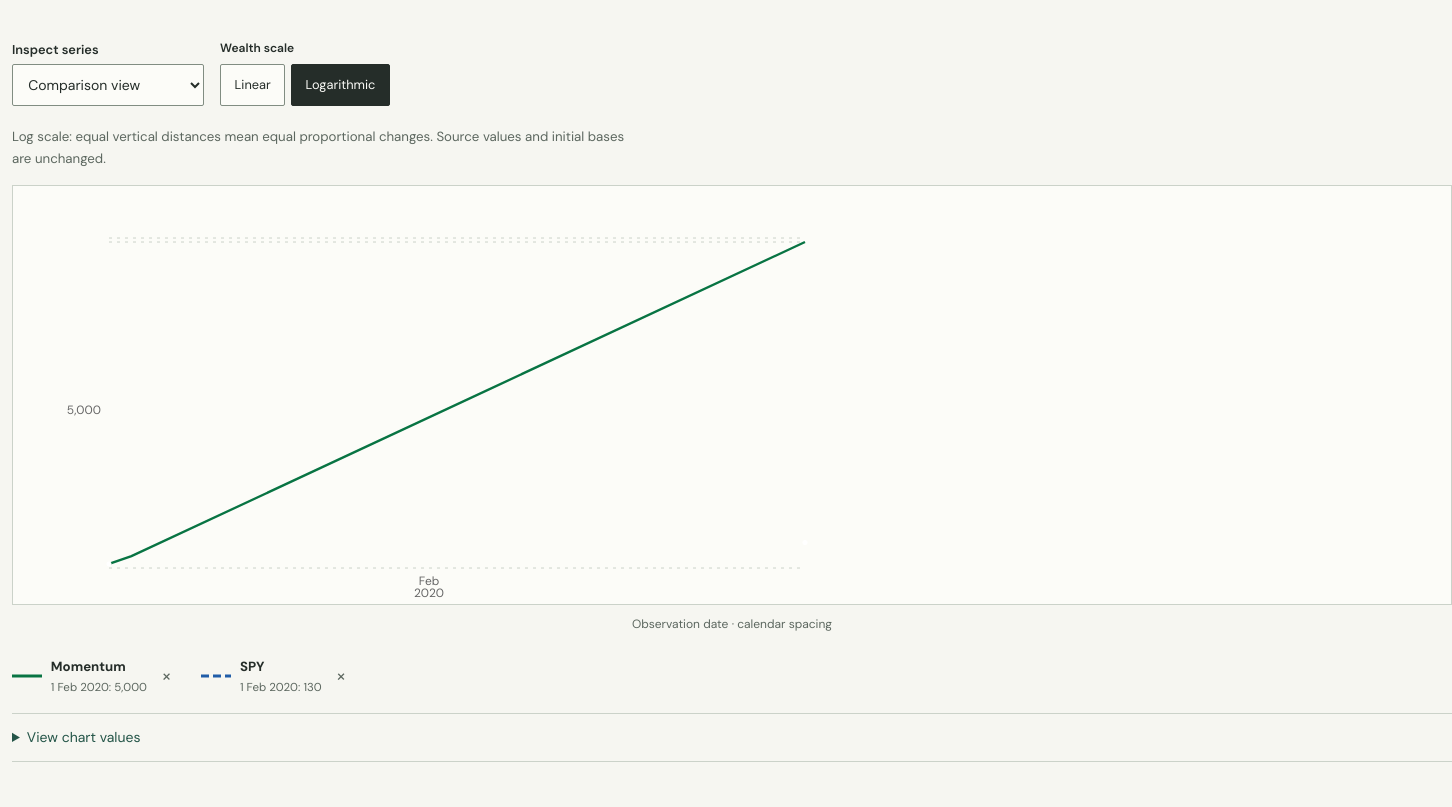
Test: presentation identity and source integrity › switches log and linear display without changing any inspected source row
The image size is (1452, 807).
(page scrolled)
Click the heading "View chart values" at [84, 737], box x1=27 y1=728 x2=140 y2=746
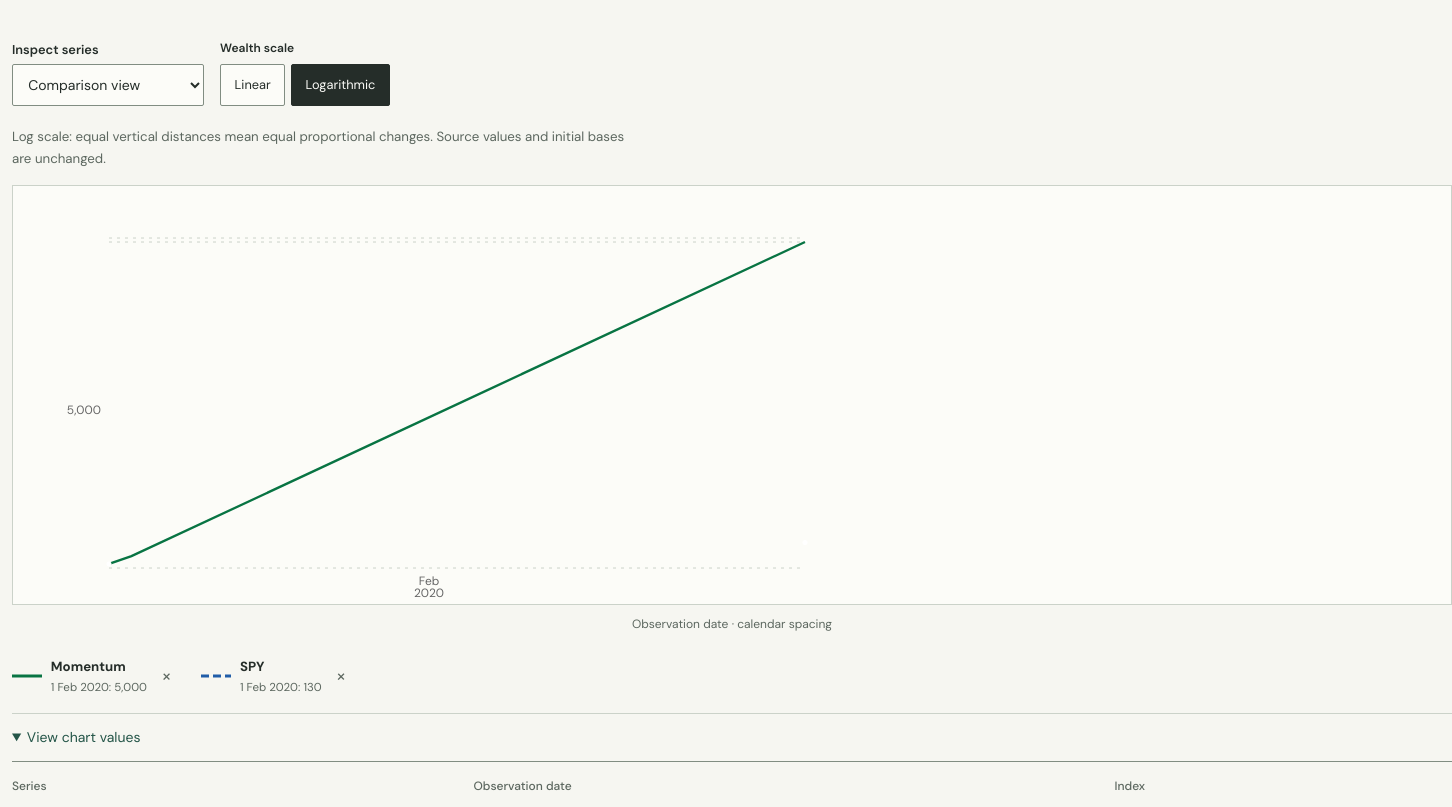
Click the button "Linear" at [253, 85], box x1=220 y1=64 x2=285 y2=106
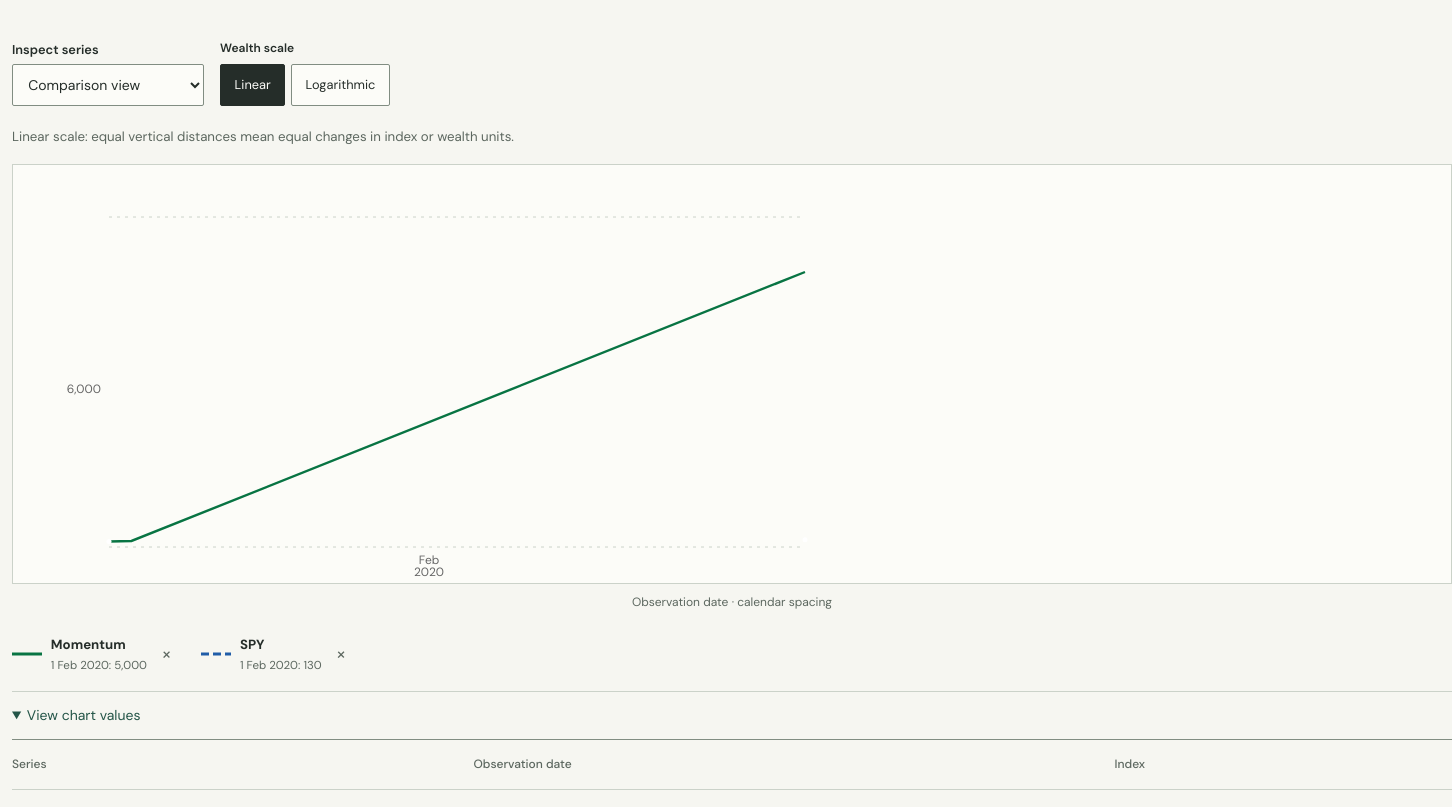
Select "SPY" in the dropdown labelled "Inspect series" at [108, 85], box x1=12 y1=64 x2=204 y2=106
(page scrolled)
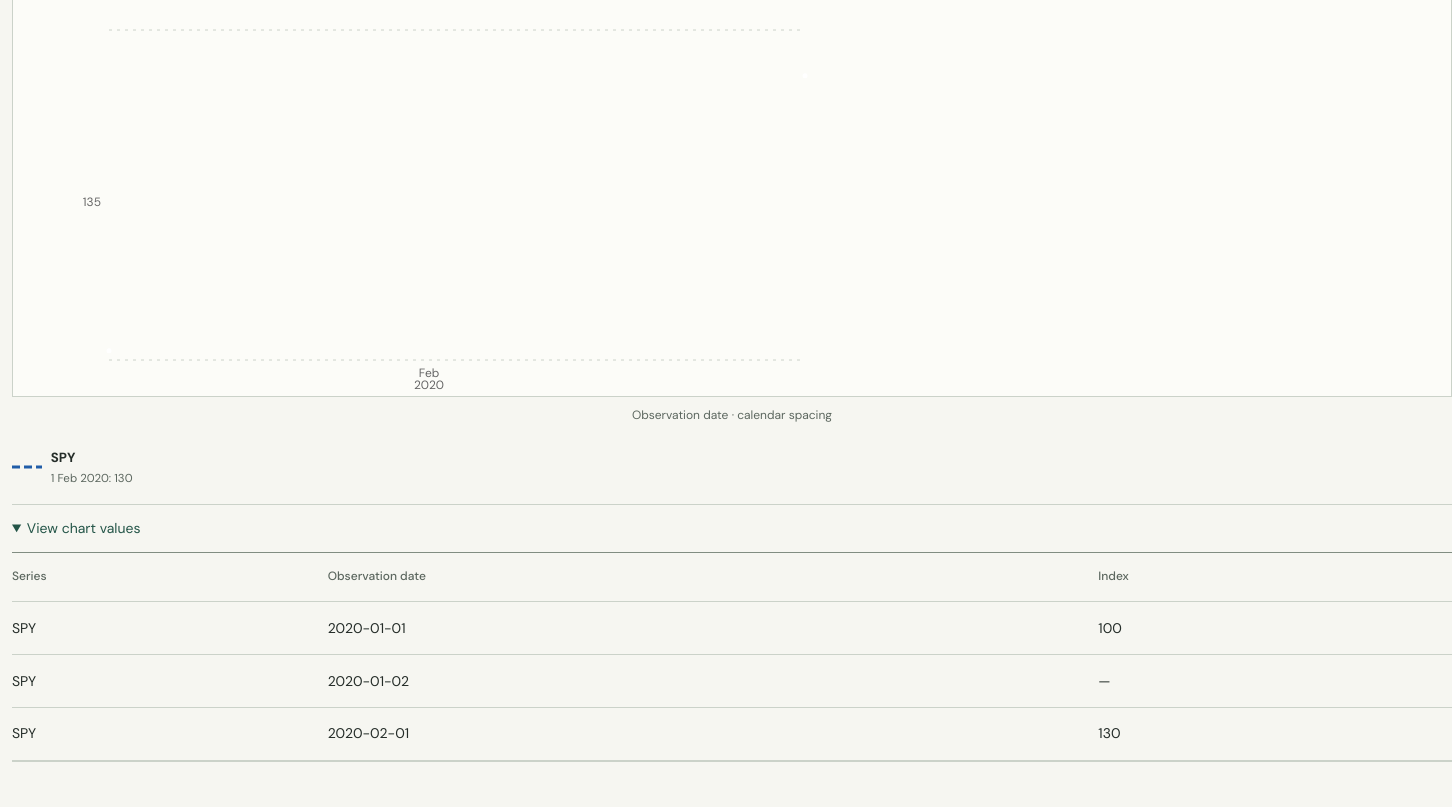
Now the table shows "130", box x1=1098 y1=724 x2=1120 y2=742
Now the number of rows is 4, box x1=12 y1=552 x2=1451 y2=602; x1=12 y1=602 x2=1451 y2=655; x1=12 y1=655 x2=1451 y2=708; x1=12 y1=708 x2=1451 y2=760
